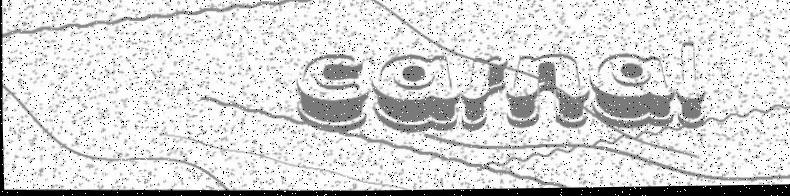a: (370, 52, 459, 136), (589, 51, 676, 132)
c: (292, 51, 370, 135)
l: (671, 41, 707, 133)
r: (502, 48, 590, 135), (458, 54, 508, 133)
